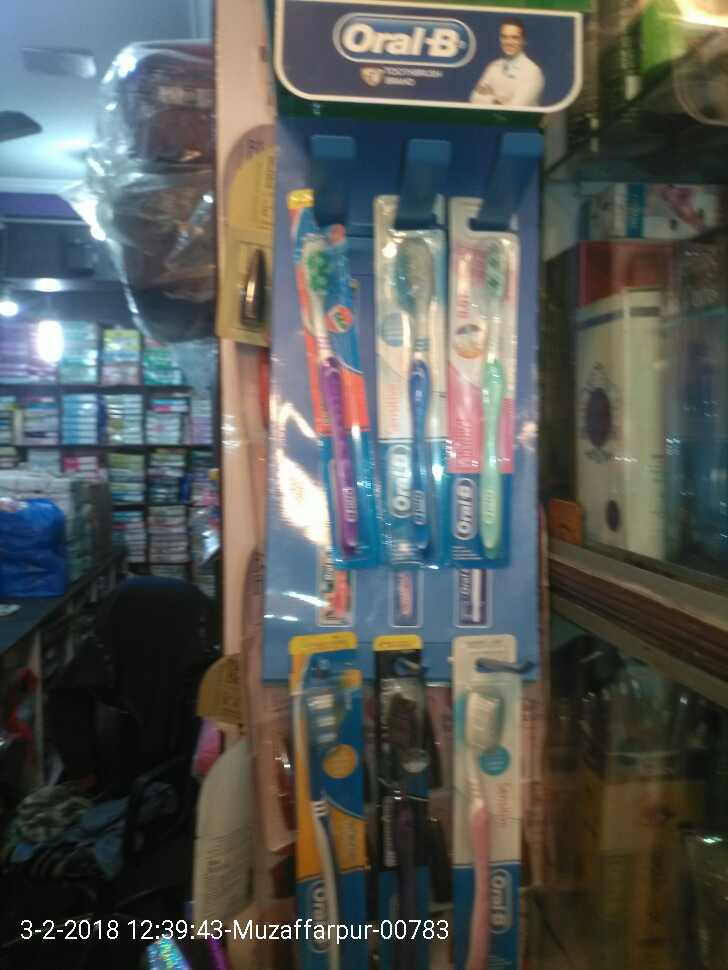oralb: (297, 183, 377, 590), (376, 195, 457, 573), (449, 203, 523, 578), (452, 635, 525, 970)
